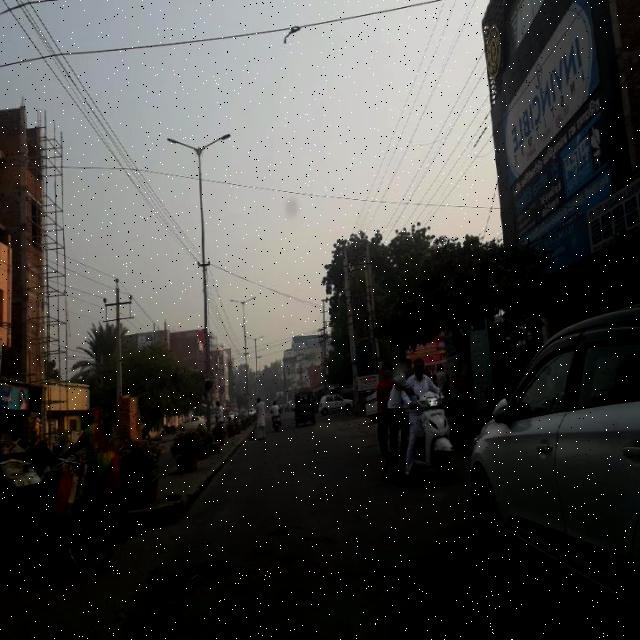D40: (140, 545, 242, 627)
